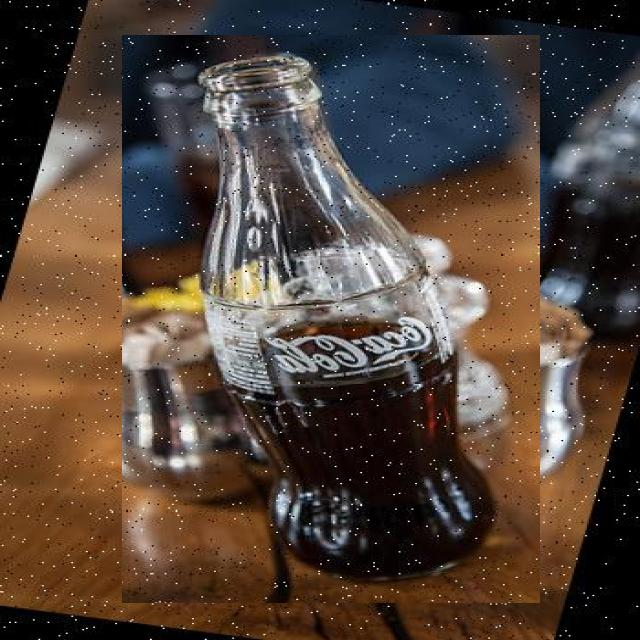coca-cola: (122, 36, 540, 604)
